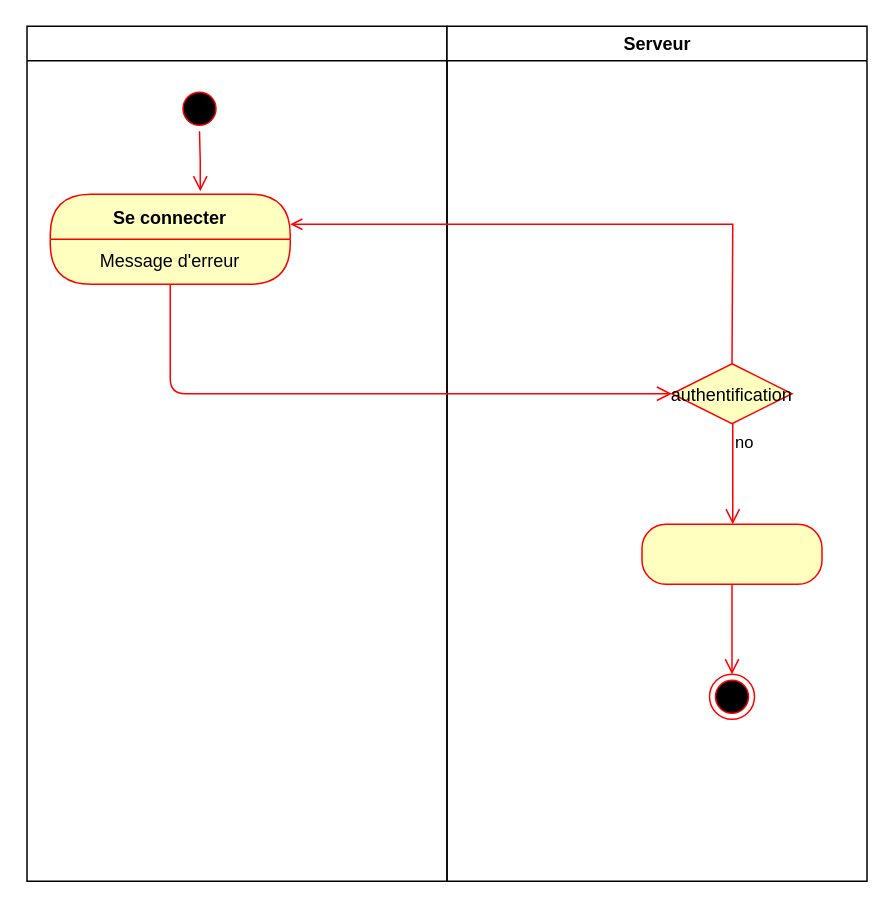
Some shapes in this 893 by 908 pixel diagram are drawn without their labels. Each missing label, with the box of its shape:
afficher ok: (640, 523, 822, 584)
Client: (26, 25, 447, 881)
